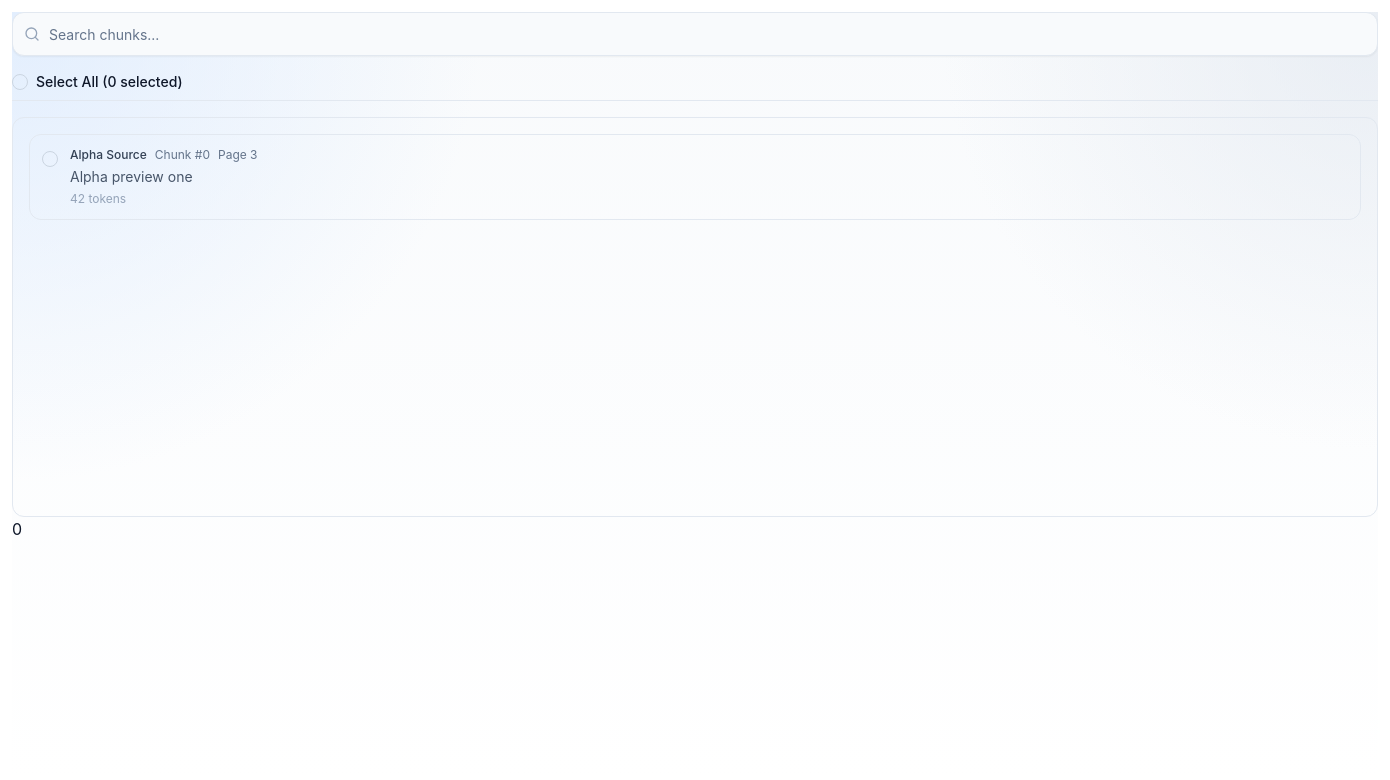
Test: ChunkSelector › selects a chunk from inside a form without entering an update loop
Check: the text "Alpha Source" is shown, box [70,147,147,163]
Click the text "Alpha preview one": point(131, 176) [70,168,193,185]
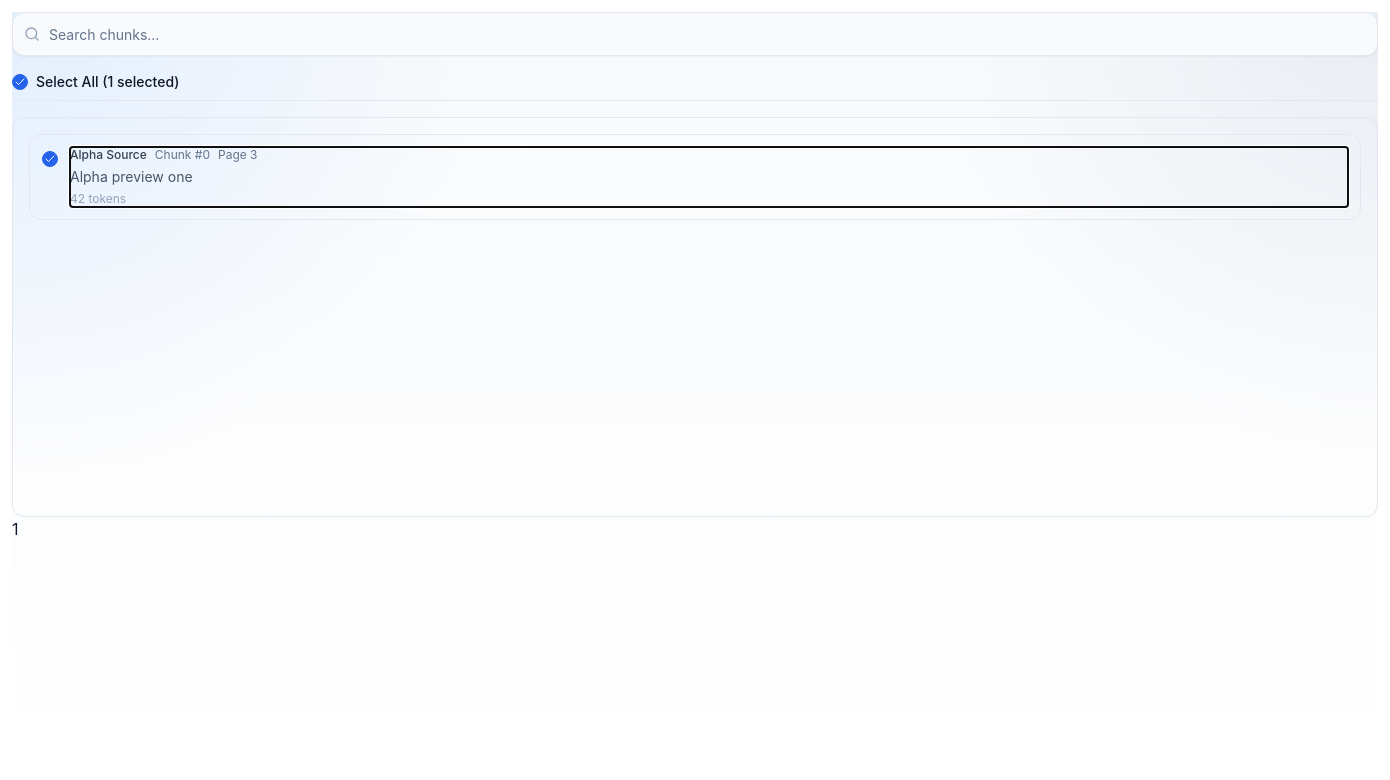
Check: the text named "Selected chunk count" reads "1", box [12,519,18,539]
